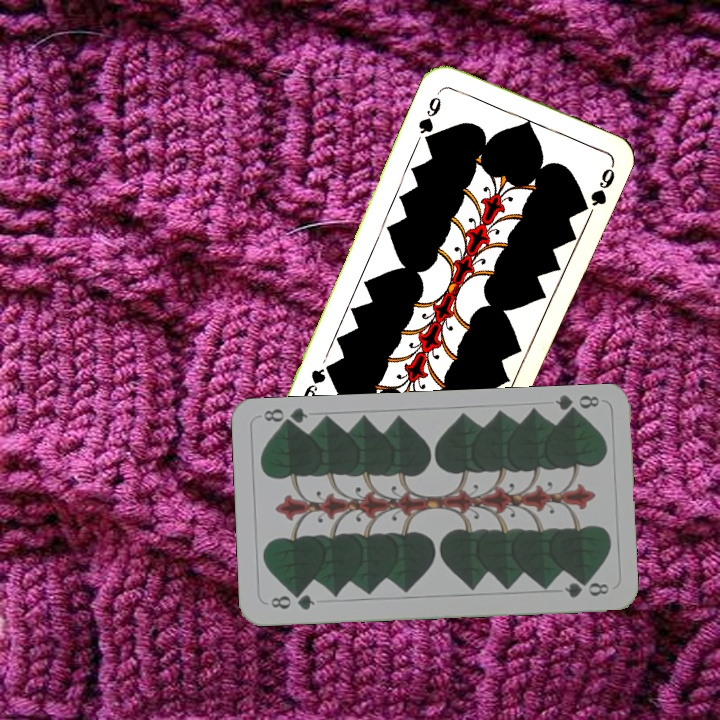G8: (551, 391, 602, 419), (266, 589, 318, 612)
G9: (414, 85, 445, 144)
